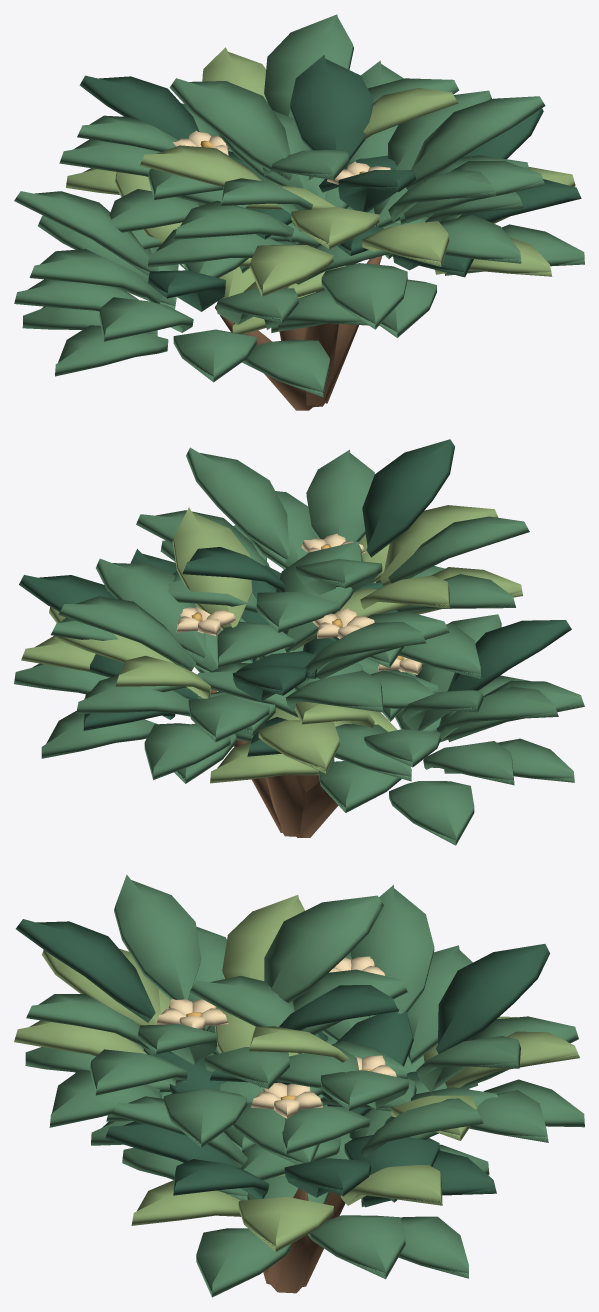
File: garden_bush.glb
3 renders of one model, top to bottom at view 1: azimuth 30°, elevation 25°; view 2: azimuth 150°, elevation 25°; view 3: azimuth 270°, elevation 25°, orthographic. The views are drawn at different scales.
Visible parts, largest first — view 1: Coastal flowering shrub; view 2: Coastal flowering shrub; view 3: Coastal flowering shrub.
Part boxes in pixels (x1,y1,x2,y2): Coastal flowering shrub: (14,14,584,410); Coastal flowering shrub: (14,439,584,845); Coastal flowering shrub: (14,874,584,1297).
Bounding box in the file's own units: 1.97 × 1.15 × 1.69.
